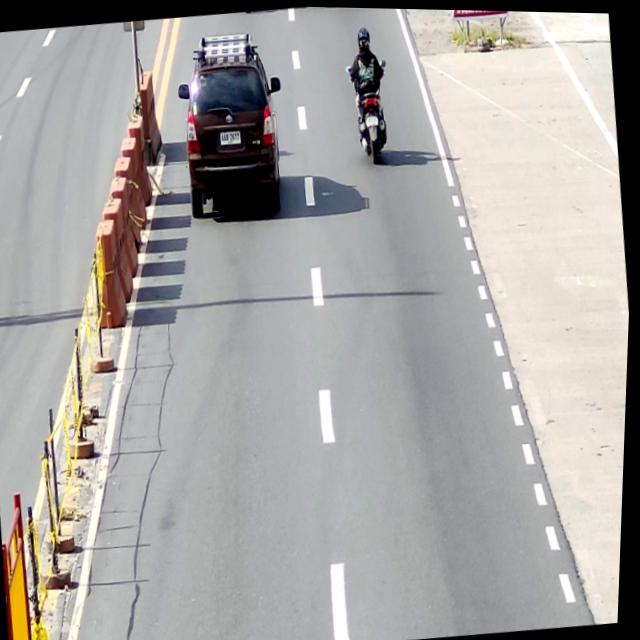Car: (169, 26, 296, 222)
License-Plate: (219, 127, 242, 145), (365, 114, 379, 125)
Motorcycle: (341, 57, 399, 165)
